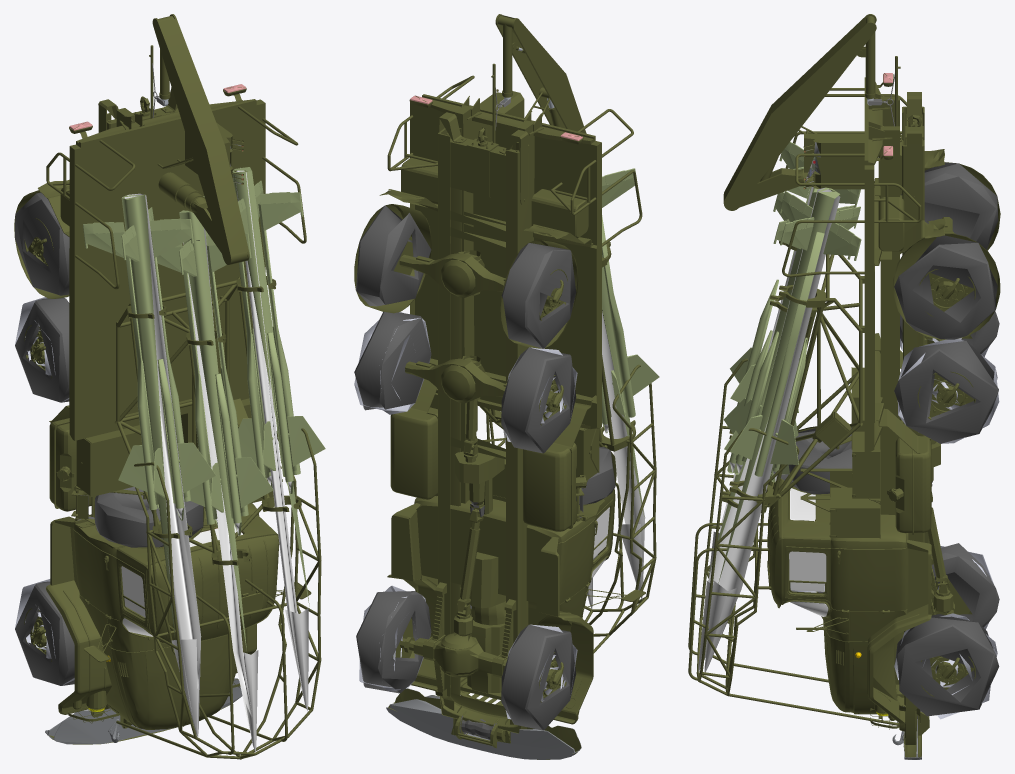
The model's file is kub.glb.
3 views of the same model, side by side, from view 1: azimuth 30°, elevation 25°; view 2: azimuth 150°, elevation 25°; view 3: azimuth 270°, elevation 25° (orthographic). The views are drawn at different scales.
Visible parts, largest first — view 1: ID6, ID683_1, ID1116, ID675, ID675_1, ID5291, ID2921, ID1358_1; view 2: ID6, ID1116, ID683_1, ID5291, ID675, ID1358_1, ID675_1, ID2921; view 3: ID6, ID1116, ID683_1, ID675, ID2921, ID1358_1, ID675_1.
Part boxes in pixels (x1,y1,x2,y2): ID6: (14,14,321,759); ID683_1: (83,167,325,653); ID1116: (15,192,203,728); ID675: (122,170,303,741); ID675_1: (171,476,308,752); ID5291: (45,144,242,744); ID2921: (121,524,242,636); ID1358_1: (15,297,74,685); ID6: (354,14,656,759); ID1116: (354,205,615,741); ID683_1: (602,168,659,516); ID5291: (386,688,581,759); ID675: (501,311,645,601); ID1358_1: (354,312,605,719); ID675_1: (587,424,642,609); ID2921: (591,507,609,578); ID6: (688,14,1000,757); ID1116: (781,162,999,730); ID683_1: (708,141,861,583); ID675: (708,187,840,661); ID2921: (789,488,828,616); ID1358_1: (790,137,999,719); ID675_1: (698,462,777,672).
Bounding box in the file's own units: 101 × 329 × 131.
Materials: 17 (3 with a texture image).
